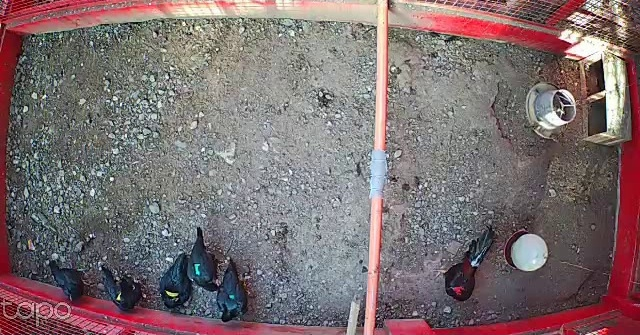Chicken: (187, 224, 227, 293), (46, 257, 94, 306), (99, 265, 148, 312), (216, 259, 252, 322), (158, 250, 194, 313)
Rooster: (430, 221, 501, 304)
Saddle_Color_Yellow: (166, 290, 178, 298)
